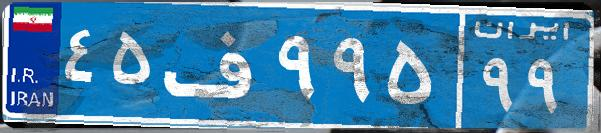4: (57, 26, 110, 107)
5: (385, 28, 445, 110), (110, 28, 158, 105)
9: (273, 28, 330, 110), (330, 28, 385, 110), (475, 38, 525, 113), (525, 38, 570, 115)
ف: (158, 15, 273, 115)
